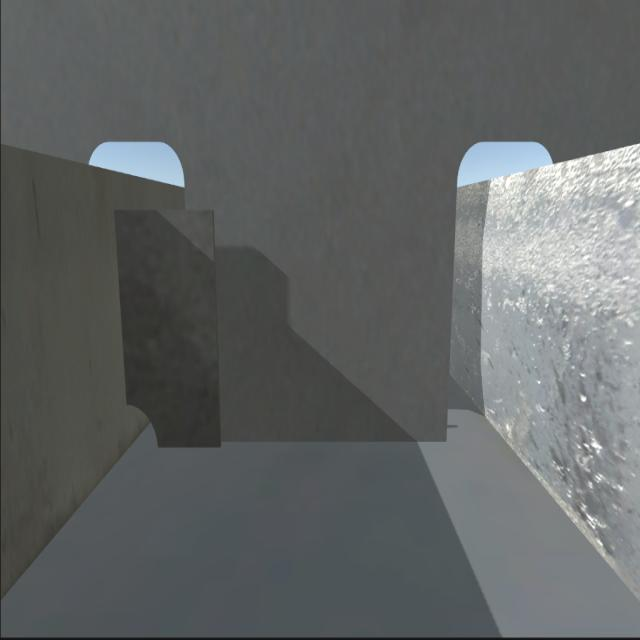fillet_hole: (125, 398, 164, 451)
fillet_yong_jeop_jang: (158, 442, 450, 462)
longi_yong_jeop_jang: (97, 203, 132, 402)
plate_CP01: (116, 204, 230, 447)
